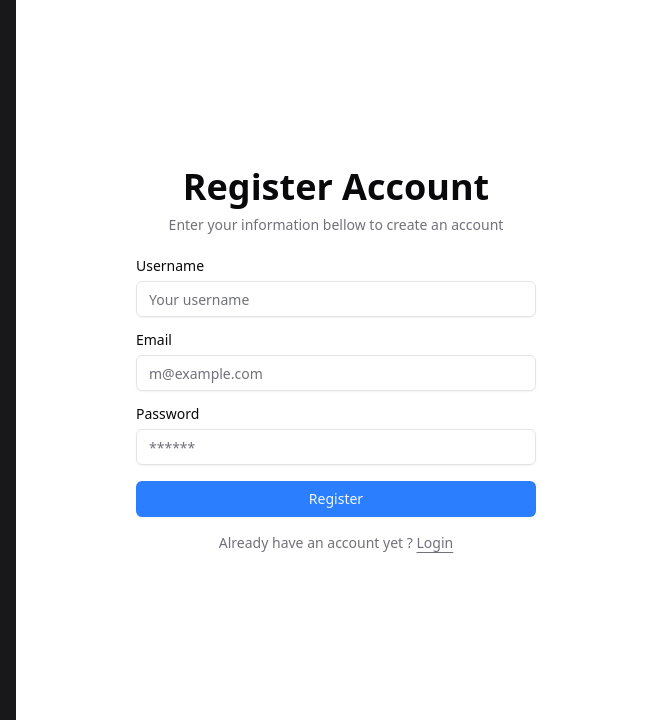
it: Register Component › shows validation errors when submitting empty or invalid data
The image size is (656, 720).
Click the button "Register".
click(336, 499)  # box [136,481,536,517]
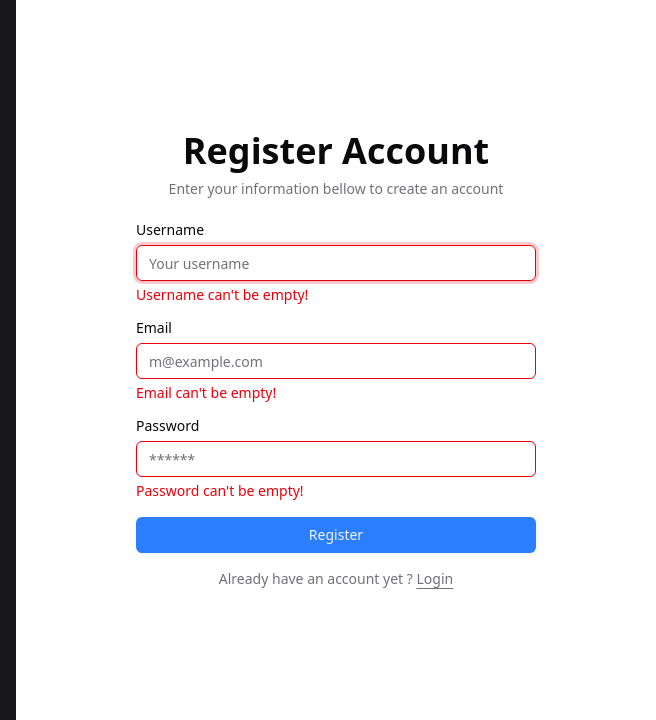
expect the text "Username can't be empty!" is shown: met, box [136,285,308,304]
expect the text "Email can't be empty!" is shown: met, box [136,383,276,402]
expect the text "Password can't be empty!" is shown: met, box [136,481,304,500]
Type "some" into the field labelled "Username".
click(336, 263); type("some")  # box [136,245,536,281]
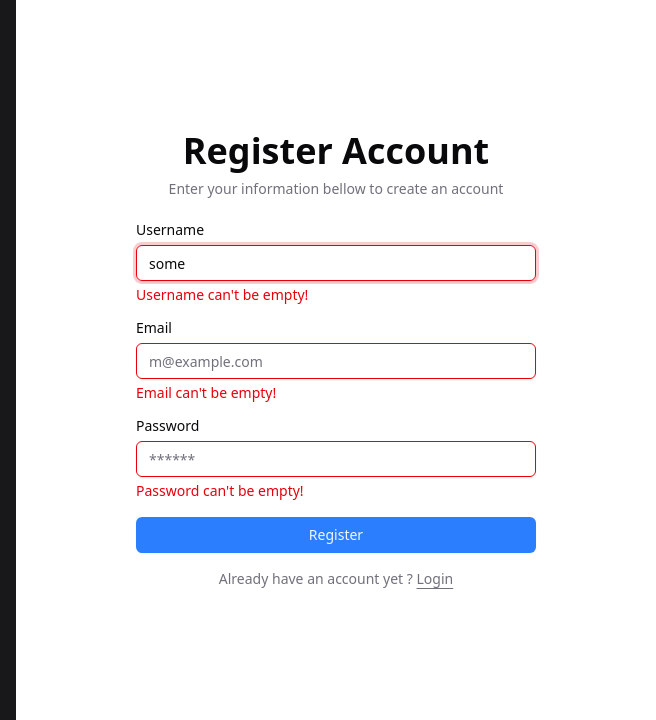
Type "invalidemail" into the field labelled "Email".
click(336, 361); type("invalidemail")  # box [136,343,536,379]
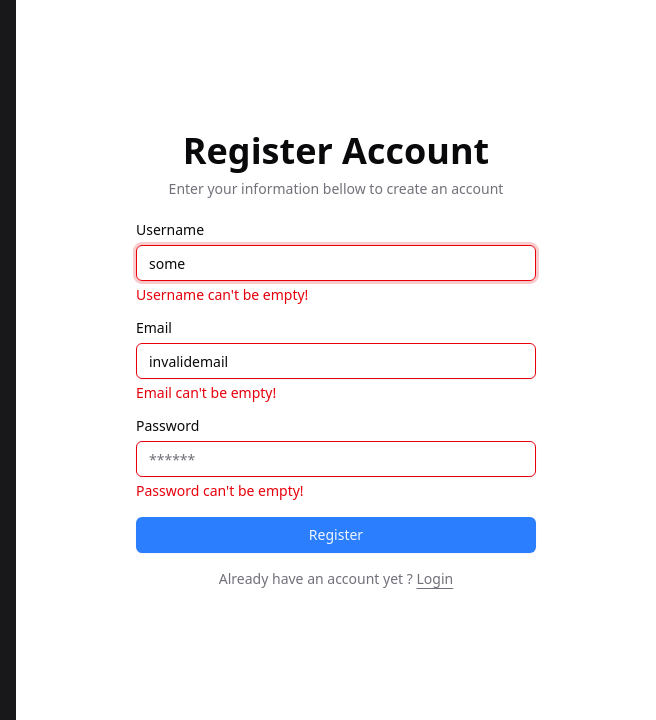
Type "some" into the password field labelled "Password".
click(336, 459); type("some")  # box [136,441,536,477]
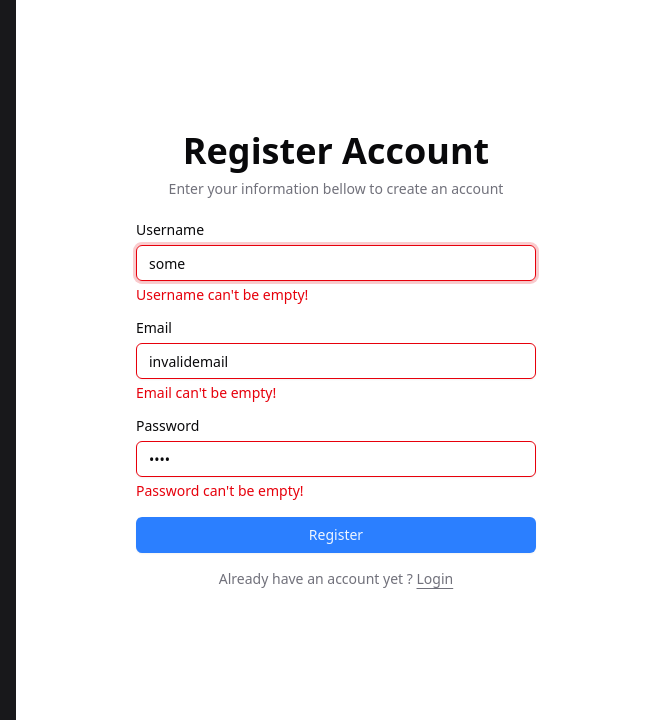
Click the button "Register".
click(336, 535)  # box [136,517,536,553]
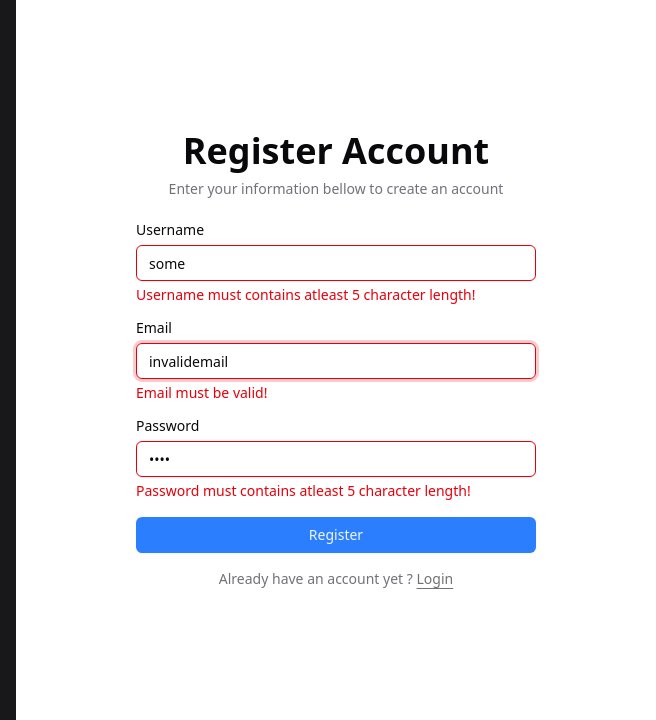
expect the text "Username must contains atleast 5 character length!" is shown: met, box [136,285,476,304]
expect the text "Email must be valid!" is shown: met, box [136,383,268,402]
expect the text "Password must contains atleast 5 character length!" is shown: met, box [136,481,471,500]
